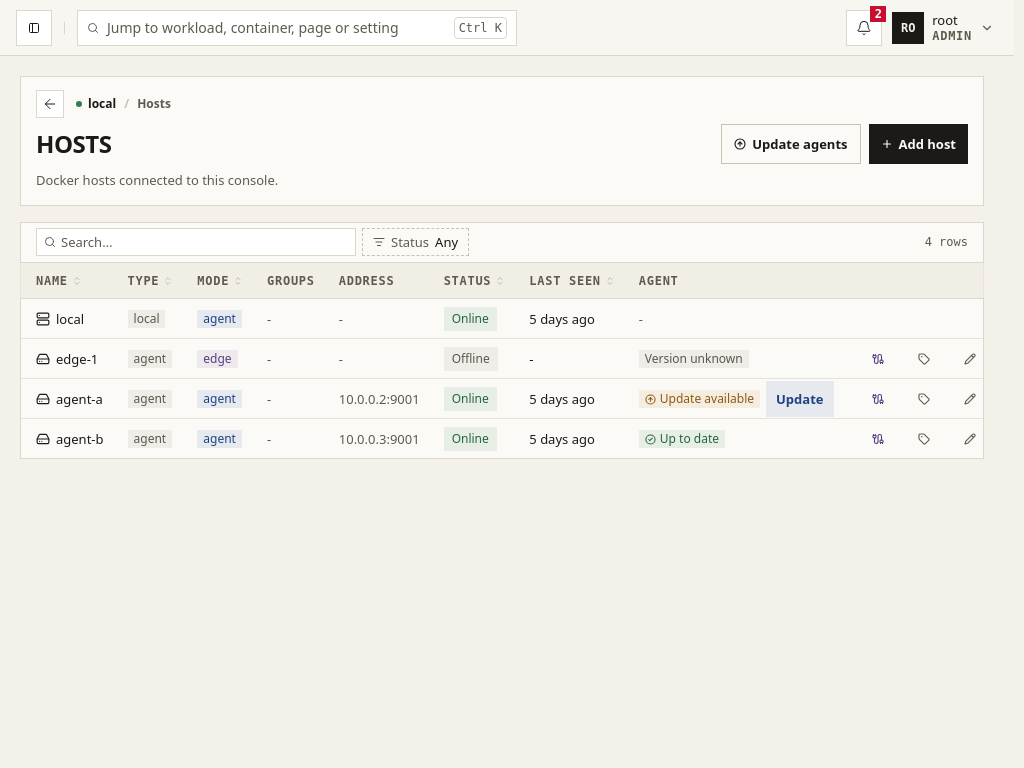
Test: hosts page › reports a failed agent update
Click the button "Update". click: (800,399)
box: [766,381,834,417]
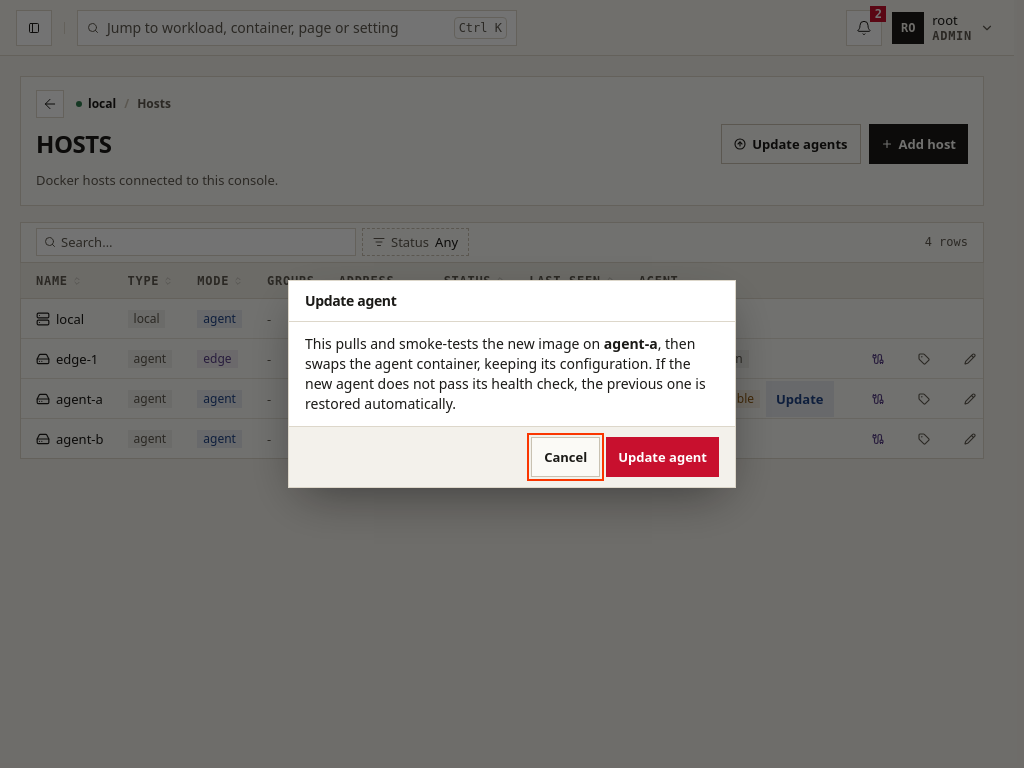
Click the button "Update agent". click: (663,457)
box: [606,437,719,477]
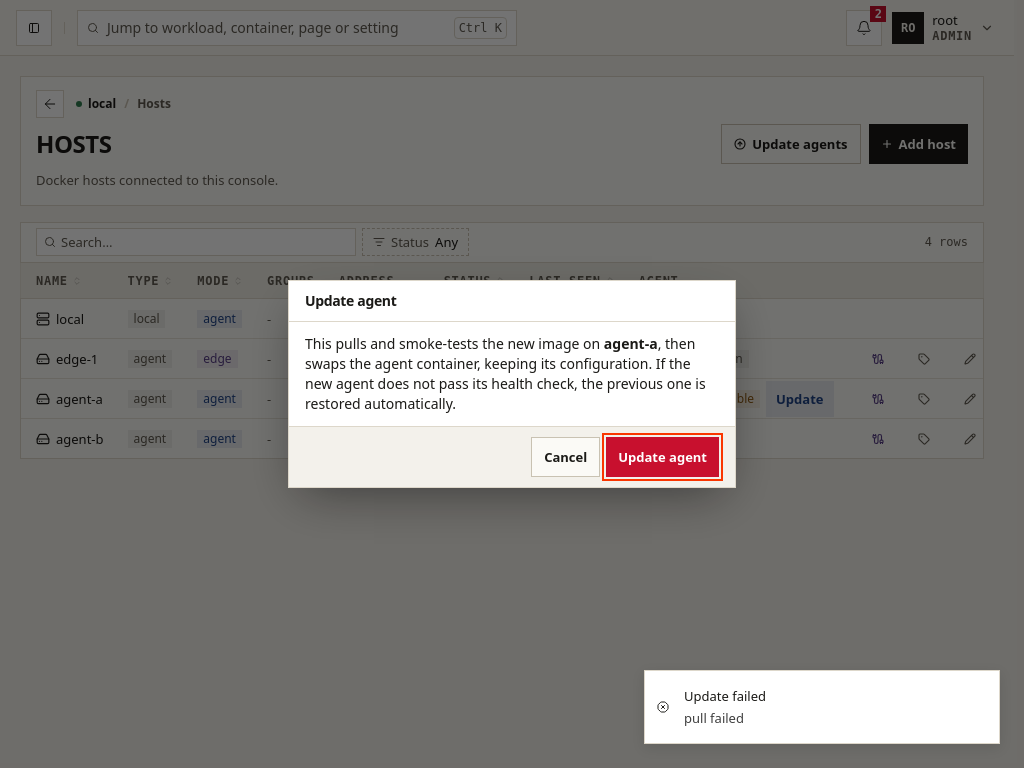
Check: the text "pull failed" is shown, box [684,709,744,727]
